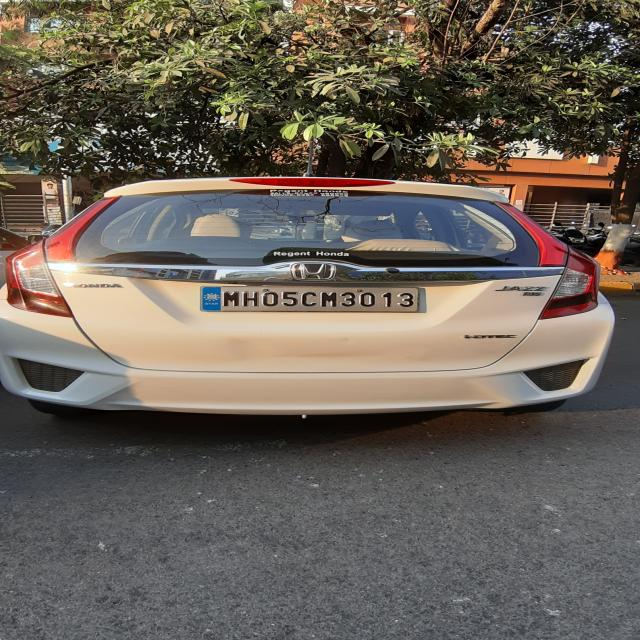Number-Plate: (205, 285, 418, 313)
